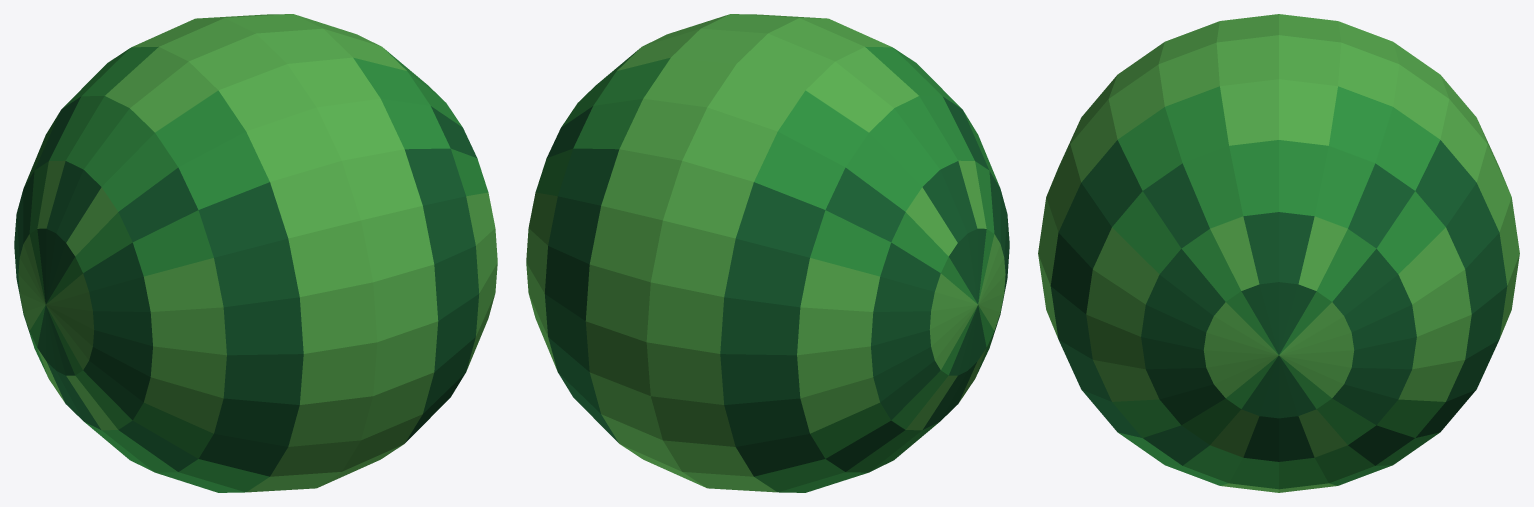
Rendered from meloun.glb.
3 views of the same model, side by side, from view 1: azimuth 30°, elevation 25°; view 2: azimuth 150°, elevation 25°; view 3: azimuth 270°, elevation 25° (orthographic).
Parts seen in each view (by area): view 1: half_b_light_stripe, half_b_dark_stripe, half_a_light_stripe, half_b_rind, half_a_dark_stripe, half_a_rind; view 2: half_b_light_stripe, half_b_dark_stripe, half_a_light_stripe, half_b_rind, half_a_dark_stripe, half_a_rind; view 3: half_a_light_stripe, half_a_dark_stripe, half_a_rind, half_b_light_stripe.
Boxes of the visible parts, left/top/right/bottom form: half_b_light_stripe: left=18, top=18, right=377, bottom=492; half_b_dark_stripe: left=14, top=97, right=303, bottom=476; half_a_light_stripe: left=197, top=14, right=497, bottom=487; half_b_rind: left=24, top=46, right=269, bottom=492; half_a_dark_stripe: left=404, top=106, right=479, bottom=442; half_a_rind: left=353, top=48, right=488, bottom=196; half_b_light_stripe: left=646, top=18, right=1005, bottom=492; half_b_dark_stripe: left=720, top=97, right=1009, bottom=476; half_a_light_stripe: left=526, top=14, right=826, bottom=487; half_b_rind: left=754, top=46, right=999, bottom=492; half_a_dark_stripe: left=544, top=106, right=619, bottom=442; half_a_rind: left=535, top=48, right=670, bottom=196; half_a_light_stripe: left=1038, top=35, right=1519, bottom=492; half_a_dark_stripe: left=1050, top=140, right=1507, bottom=465; half_a_rind: left=1112, top=86, right=1445, bottom=489; half_b_light_stripe: left=1047, top=14, right=1510, bottom=194.
Bounding box in the file's own units: 0.5 × 0.5 × 0.5.
